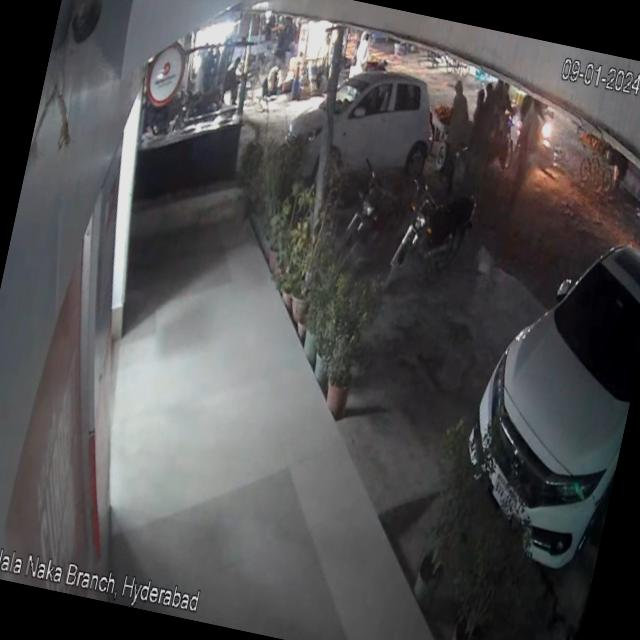Car: (442, 201, 640, 595), (276, 54, 462, 214)
Motorcycle: (384, 165, 486, 312), (328, 144, 424, 272)
